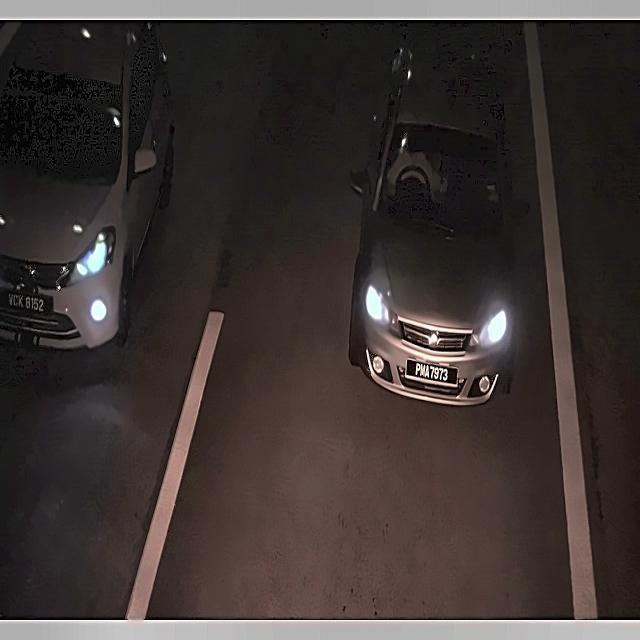car: (402, 357, 464, 392), (2, 282, 51, 323)
